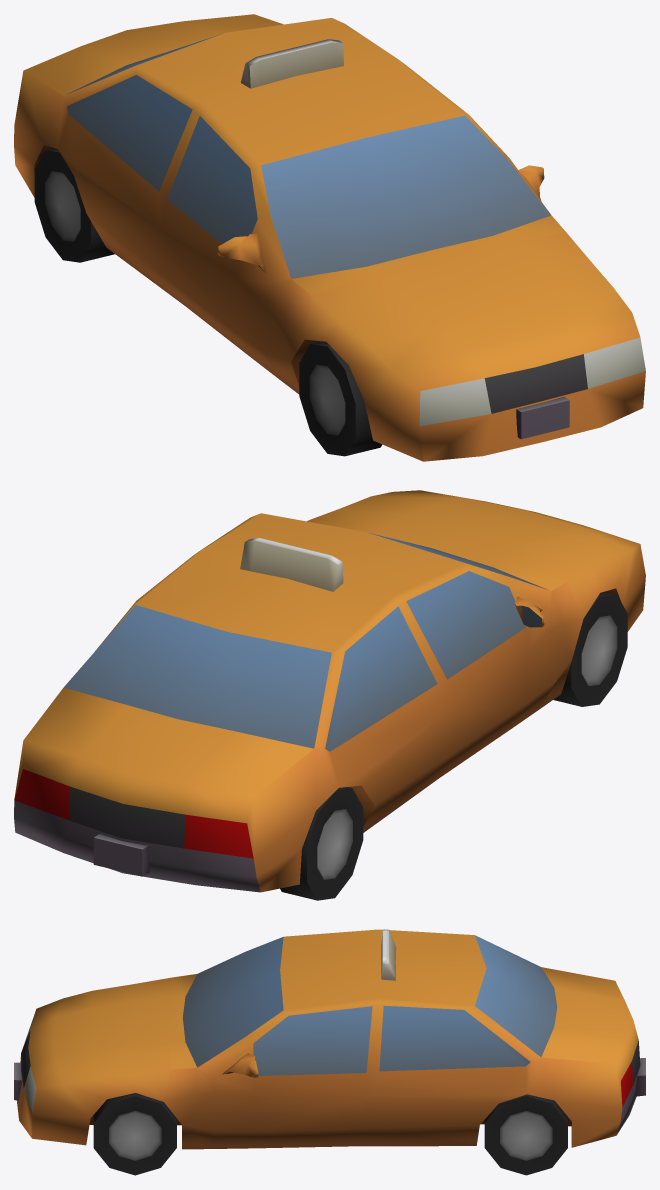
File: vehicles-cars-taxi_v1.fbx
The picture shows the model from 3 angles, top to bottom: view 1: azimuth 30°, elevation 25°; view 2: azimuth 150°, elevation 25°; view 3: azimuth 270°, elevation 25°; orthographic projection. The views are drawn at different scales.
Visible parts, largest first — view 1: Taxi; view 2: Taxi; view 3: Taxi.
Part boxes in pixels (x1=…): Taxi: x1=14, y1=14, x2=645, y2=461; Taxi: x1=14, y1=490, x2=645, y2=900; Taxi: x1=14, y1=929, x2=645, y2=1175.
Size of the model in its own units: 2.19 by 1.59 by 5.
